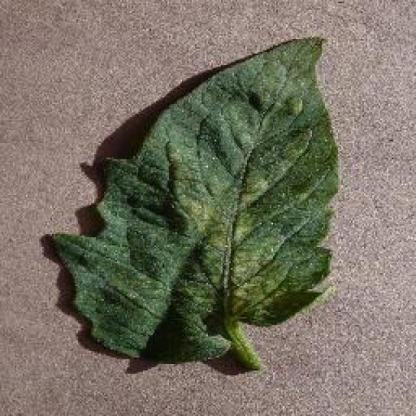Tomato_Spider_Mites: (48, 38, 333, 358)
